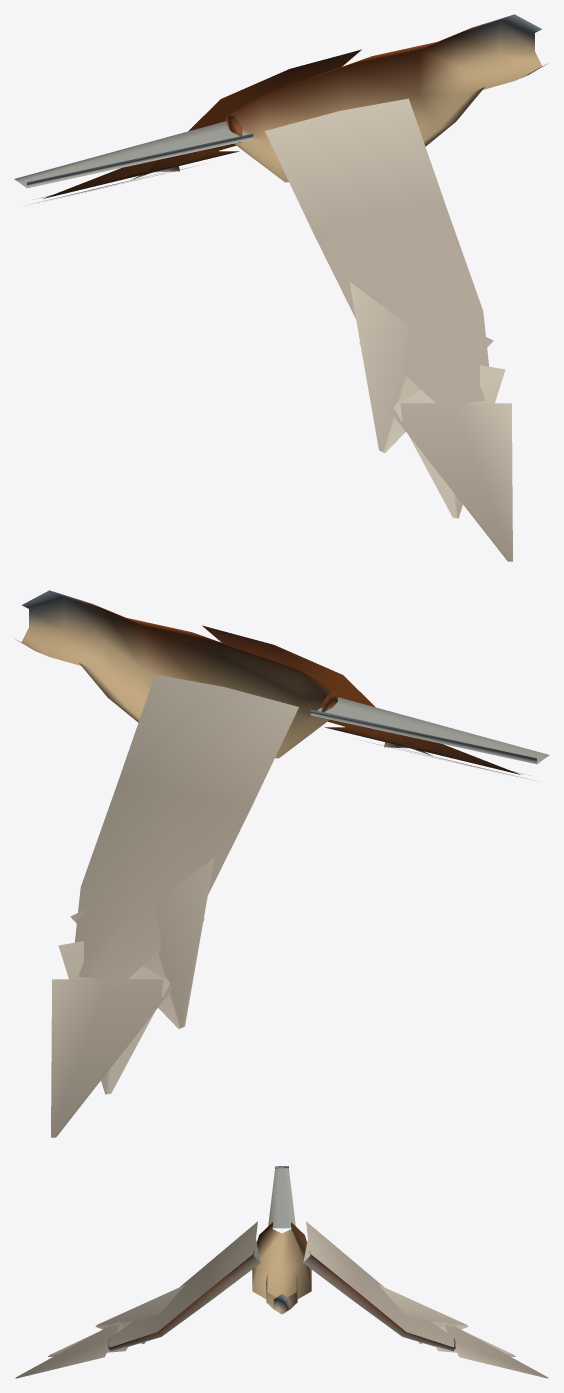
Rendered from SM_Bird_kestrel_flap2_LOD2.glb.
3 views of the same model, one above another, from view 1: azimuth 30°, elevation 25°; view 2: azimuth 150°, elevation 25°; view 3: azimuth 270°, elevation 25° (orthographic). The views are drawn at different scales.
Parts seen in each view (by area): view 1: SM_Bird_kestrel_flap2_LOD2; view 2: SM_Bird_kestrel_flap2_LOD2; view 3: SM_Bird_kestrel_flap2_LOD2.
Part boxes in pixels (bbox=[...]): SM_Bird_kestrel_flap2_LOD2: bbox=[14, 14, 548, 561]; SM_Bird_kestrel_flap2_LOD2: bbox=[15, 590, 549, 1137]; SM_Bird_kestrel_flap2_LOD2: bbox=[15, 1166, 548, 1378].
Size of the model in its own units: 0.3642 by 0.2057 by 0.5896.
